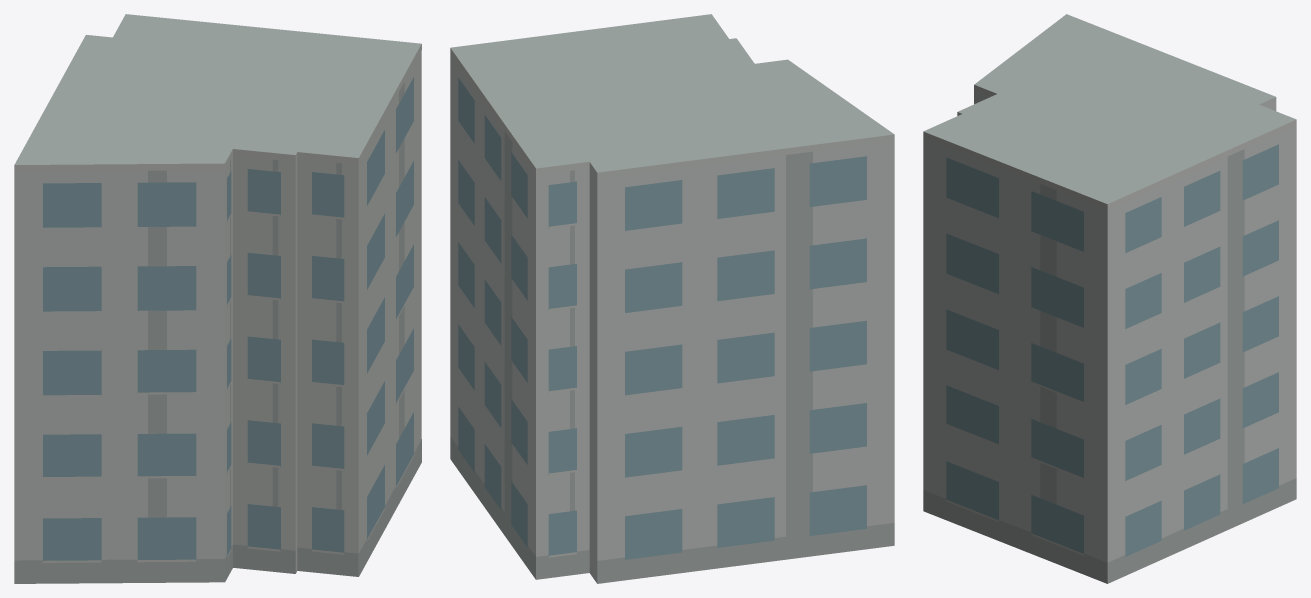
The model's file is survey-upis-32549782.glb.
The picture shows the model from 3 angles, left to right: view 1: azimuth 30°, elevation 25°; view 2: azimuth 150°, elevation 25°; view 3: azimuth 270°, elevation 25°; orthographic projection. The views are drawn at different scales.
Visible parts, largest first — view 1: survey-upis-32549782.tmp; view 2: survey-upis-32549782.tmp; view 3: survey-upis-32549782.tmp.
Boxes of the visible parts, x1,y1,x2,y2 form: survey-upis-32549782.tmp: (14,14,421,583); survey-upis-32549782.tmp: (450,14,894,583); survey-upis-32549782.tmp: (923,14,1296,583).
Size of the model in its own units: 16.18 by 15.05 by 13.42.
